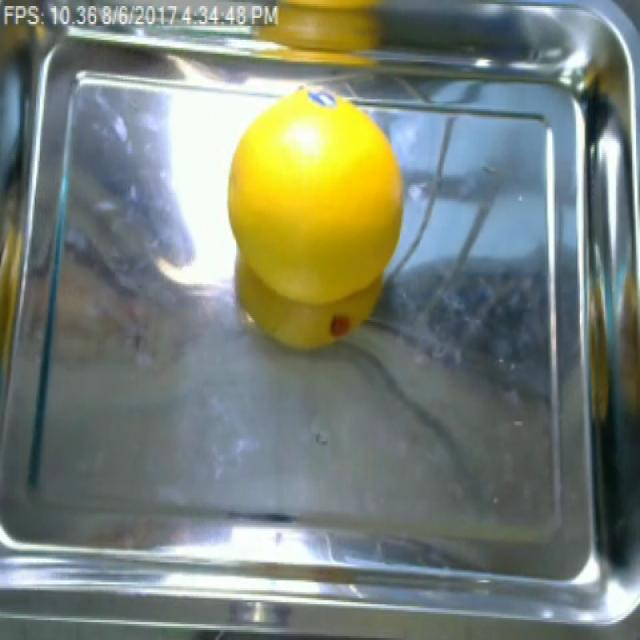Fruit: (223, 83, 409, 360), (248, 0, 412, 62)
